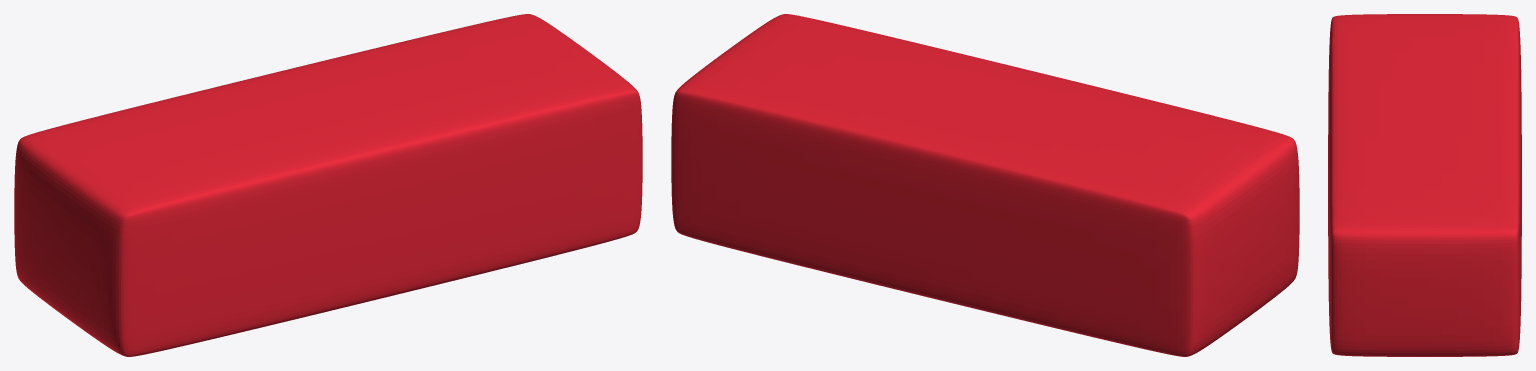
The model's file is Pool Obstacle.fbx.
3 views of the same model, side by side, from view 1: azimuth 30°, elevation 25°; view 2: azimuth 150°, elevation 25°; view 3: azimuth 270°, elevation 25° (orthographic). The views are drawn at different scales.
Visible parts, largest first — view 1: Plane.002; view 2: Plane.002; view 3: Plane.002.
Part boxes in pixels (bbox=[...]): Plane.002: bbox=[14, 14, 642, 356]; Plane.002: bbox=[671, 14, 1299, 356]; Plane.002: bbox=[1328, 14, 1521, 356].
Size of the model in its own units: 1.53 by 0.4268 by 0.5555.
